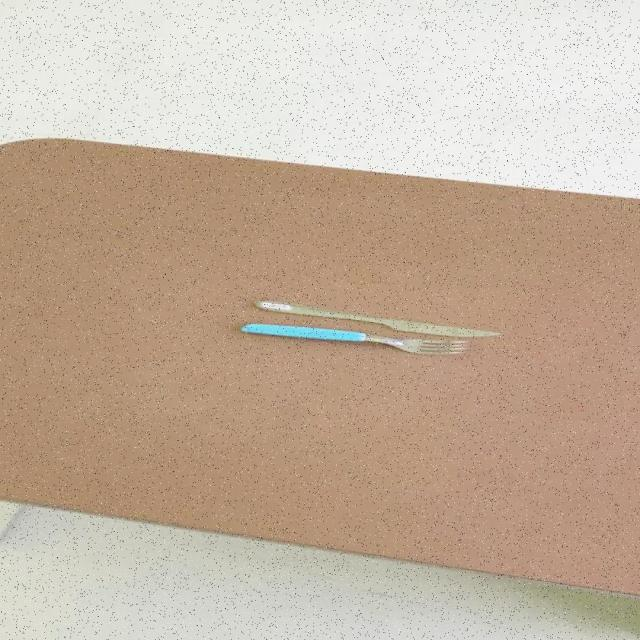Fork: (241, 322, 471, 356)
Knife: (255, 299, 504, 337)
